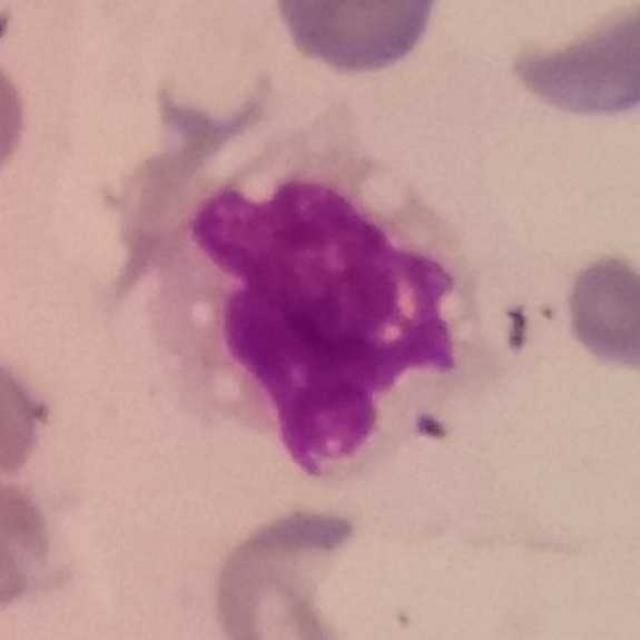mono: (101, 70, 521, 495)
